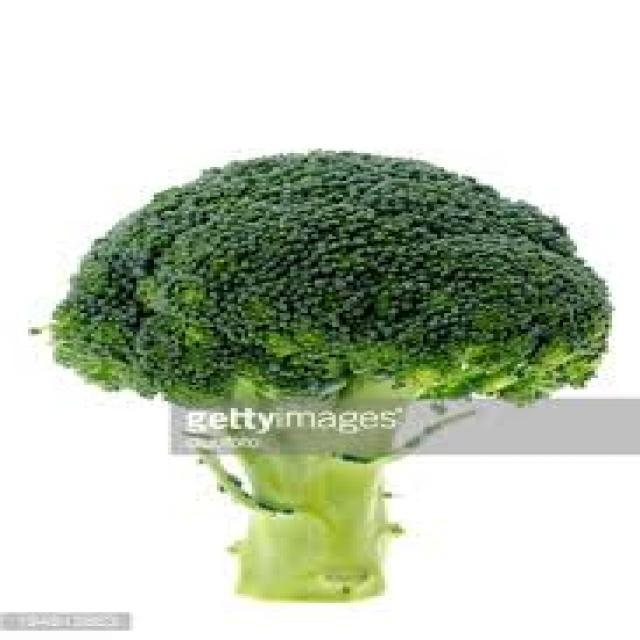organic waste: (42, 148, 608, 596)
